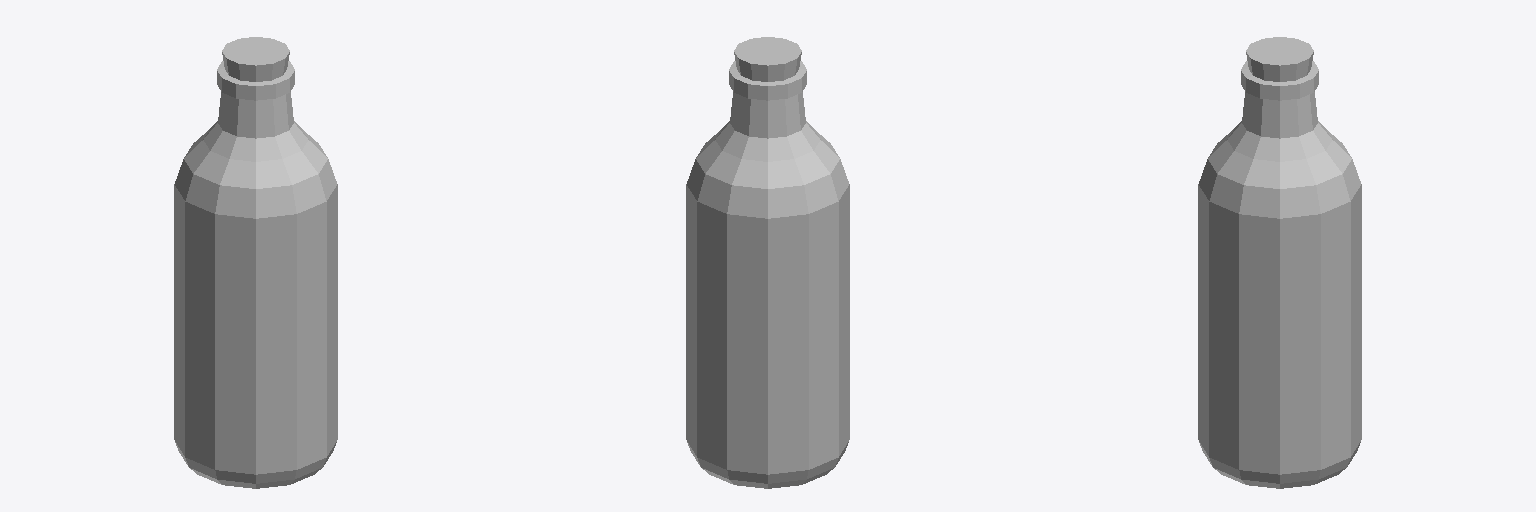
Rendered from bottle4.obj.
3 views of the same model, side by side, from view 1: azimuth 30°, elevation 25°; view 2: azimuth 150°, elevation 25°; view 3: azimuth 270°, elevation 25° (orthographic).
Visible parts, largest first — view 1: jugOfMilk; view 2: jugOfMilk; view 3: jugOfMilk.
Boxes of the visible parts, <box> form: jugOfMilk: <box>174,37,337,488</box>; jugOfMilk: <box>686,37,849,488</box>; jugOfMilk: <box>1198,37,1361,488</box>.
Bounding box in the file's own units: 2.06 × 5.71 × 2.06.